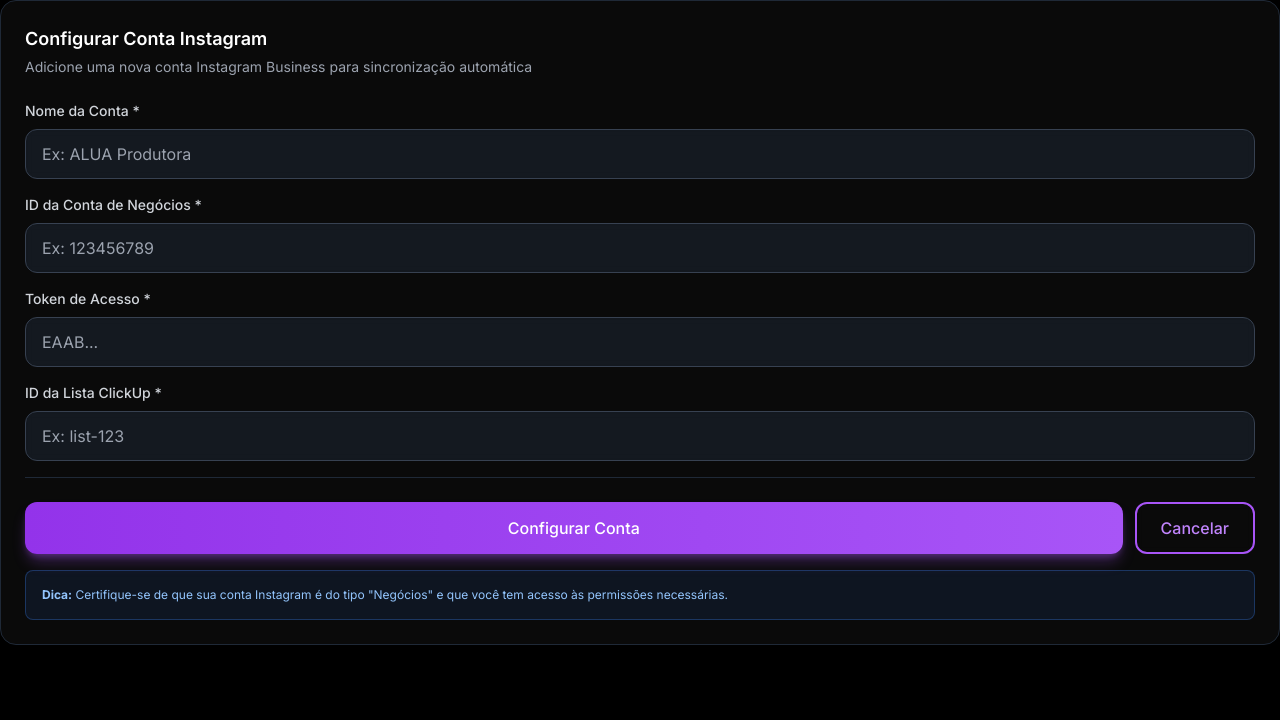
it: InstagramAccountForm › Validation › should show error when businessAccountId is empty
Type "Test Account" into the field with placeholder "Ex: ALUA Produtora" at (640, 154), box [25,129,1255,179]
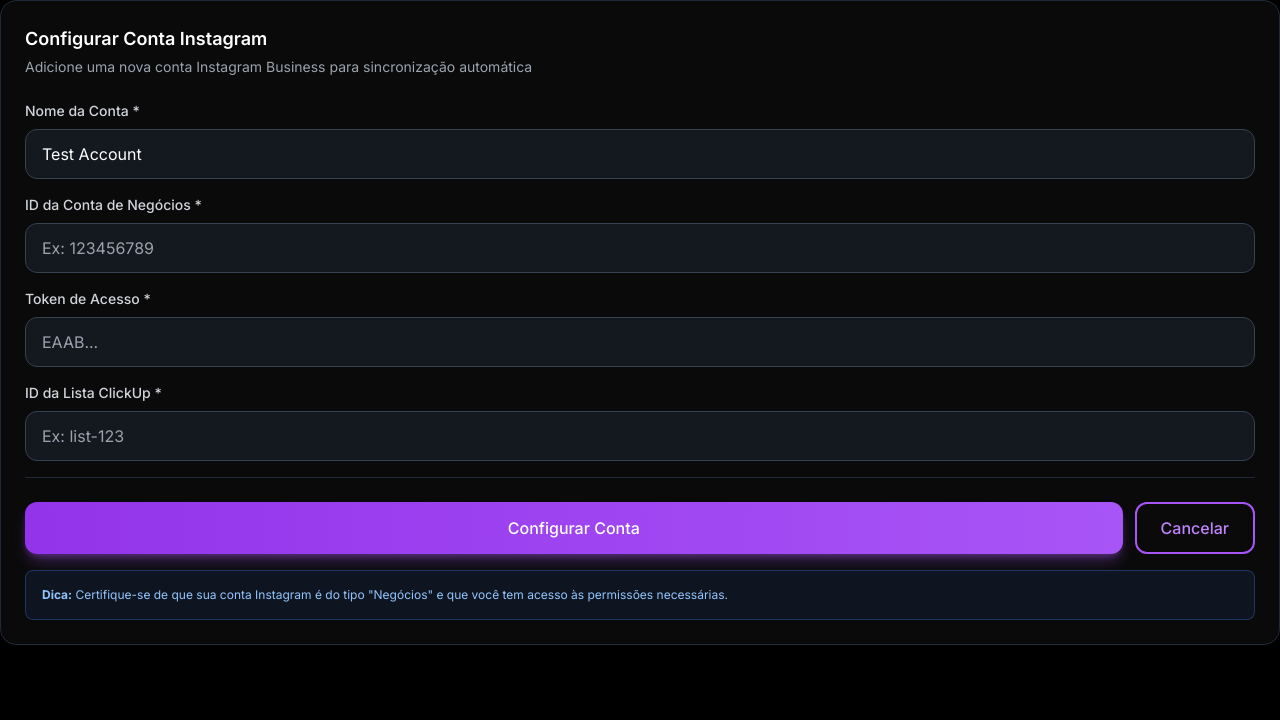
Click the button "Configurar Conta" at (574, 528), box [25,502,1123,554]
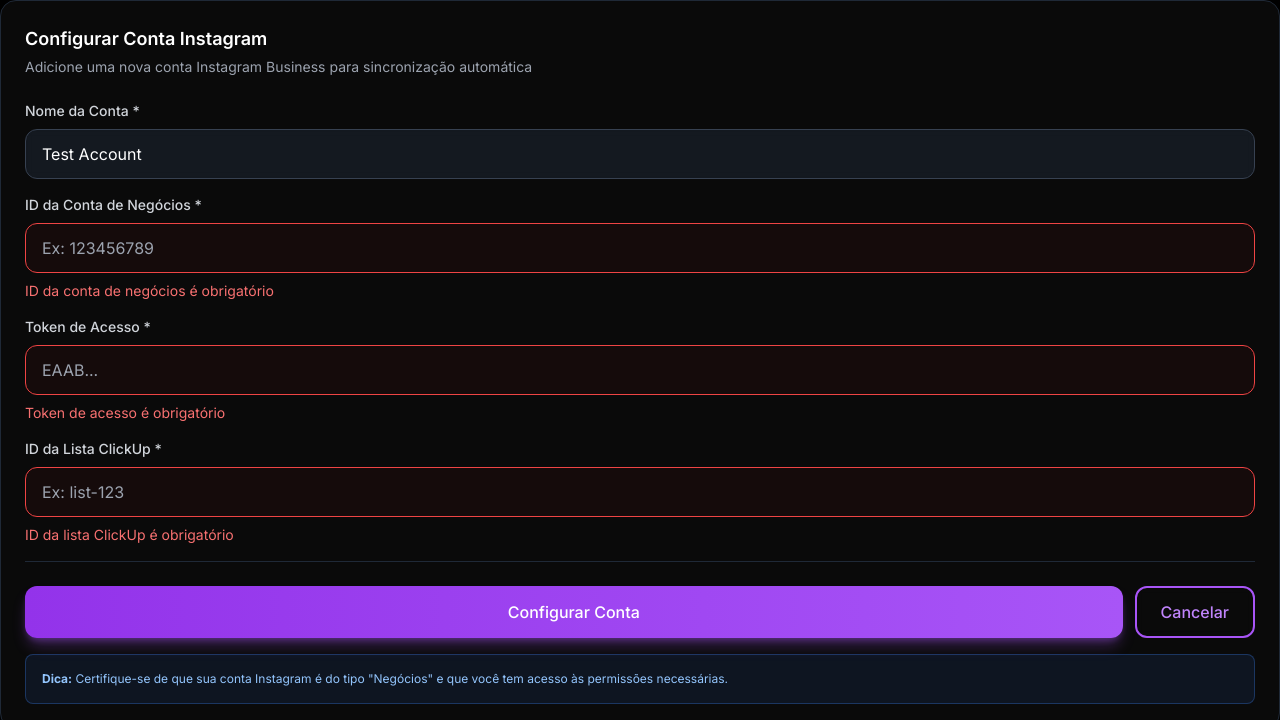
Expected: the text "ID da conta de negócios é obrigatório" is shown, [25,282,274,299]
